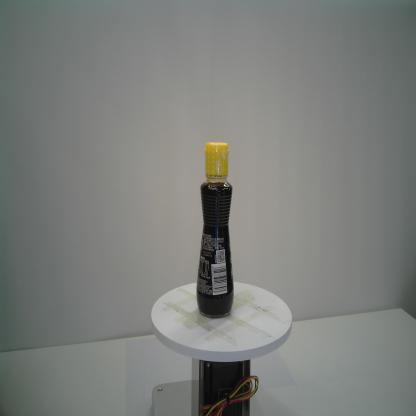Seasoner: (195, 140, 236, 320)
